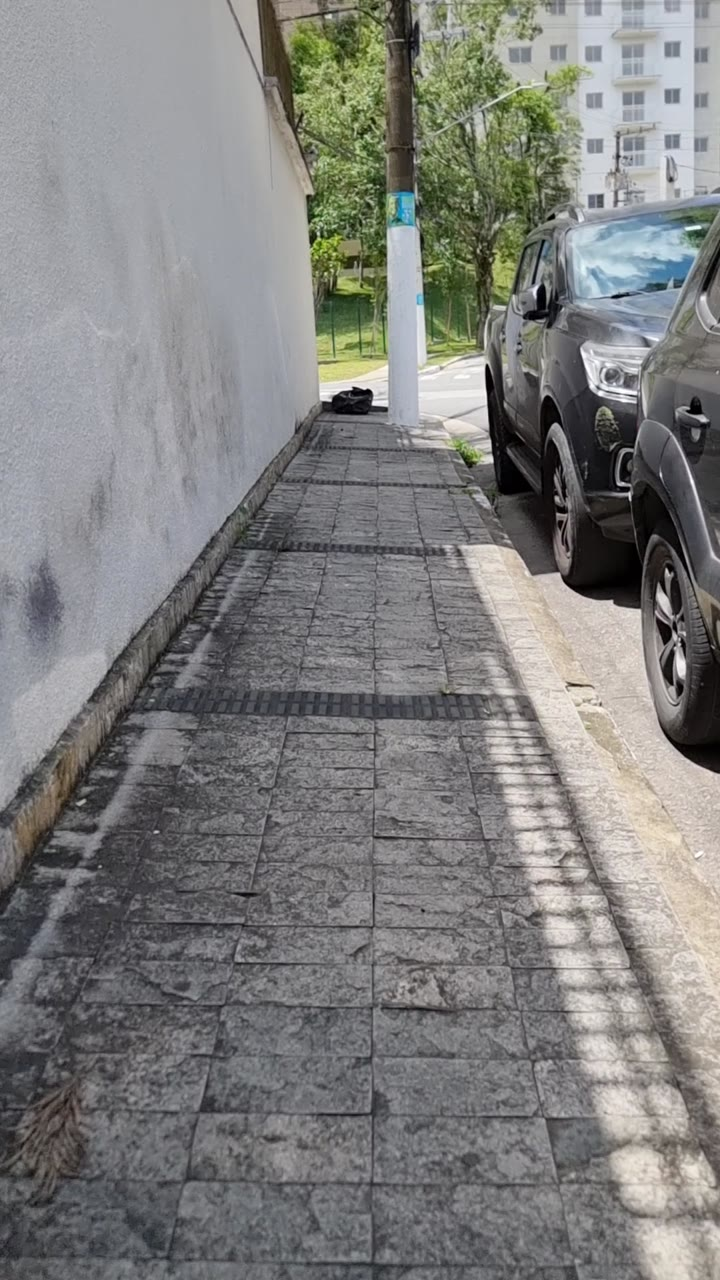obstaculo: (382, 0, 418, 422)
